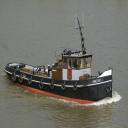tugboat: (4, 13, 115, 110)
